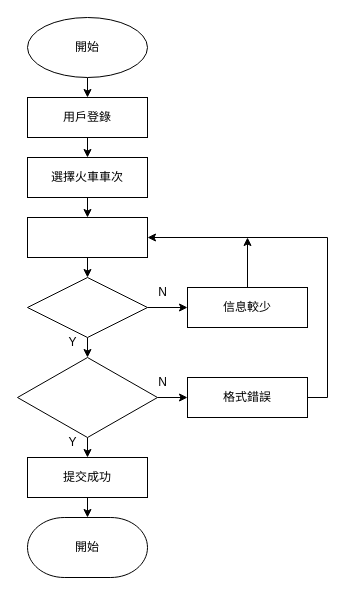
Some shapes in this 353 by 595 pixel diagram are drawn without their labels. Each missing label, with the centre of its shape:
"內容完整" goes at point (87, 307).
"填寫訂票信息" goes at point (87, 237).
"格式是否正確" goes at point (87, 397).
